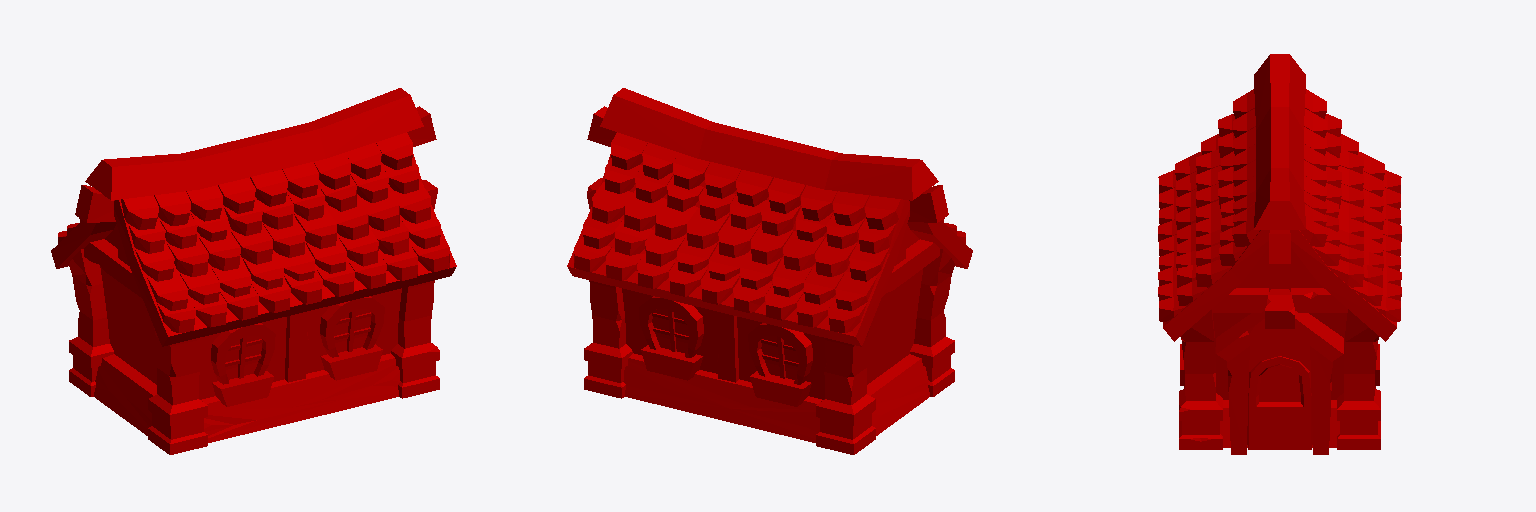
Rendered from house_003.obj.
The picture shows the model from 3 angles: view 1: azimuth 30°, elevation 25°; view 2: azimuth 150°, elevation 25°; view 3: azimuth 270°, elevation 25°; orthographic projection.
Visible parts, largest first — view 1: house_003; view 2: house_003; view 3: house_003.
Part boxes in pixels (x1,y1,x2,y2): house_003: (51, 88, 456, 454); house_003: (567, 88, 972, 454); house_003: (1158, 54, 1401, 454).
Bounding box in the file's own units: 5.4 × 3.8 × 3.26.